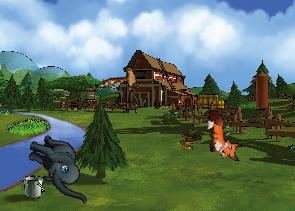eagle: (94, 50, 152, 109)
elephant: (18, 131, 100, 204)
fox: (206, 109, 242, 162)
